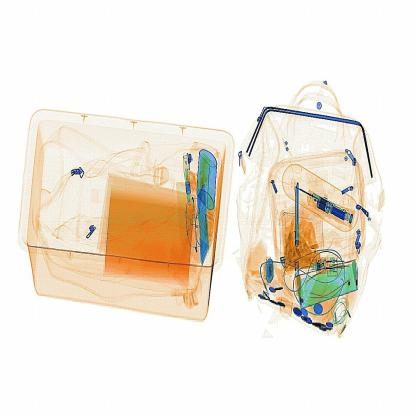pliers: (284, 172, 318, 252)
